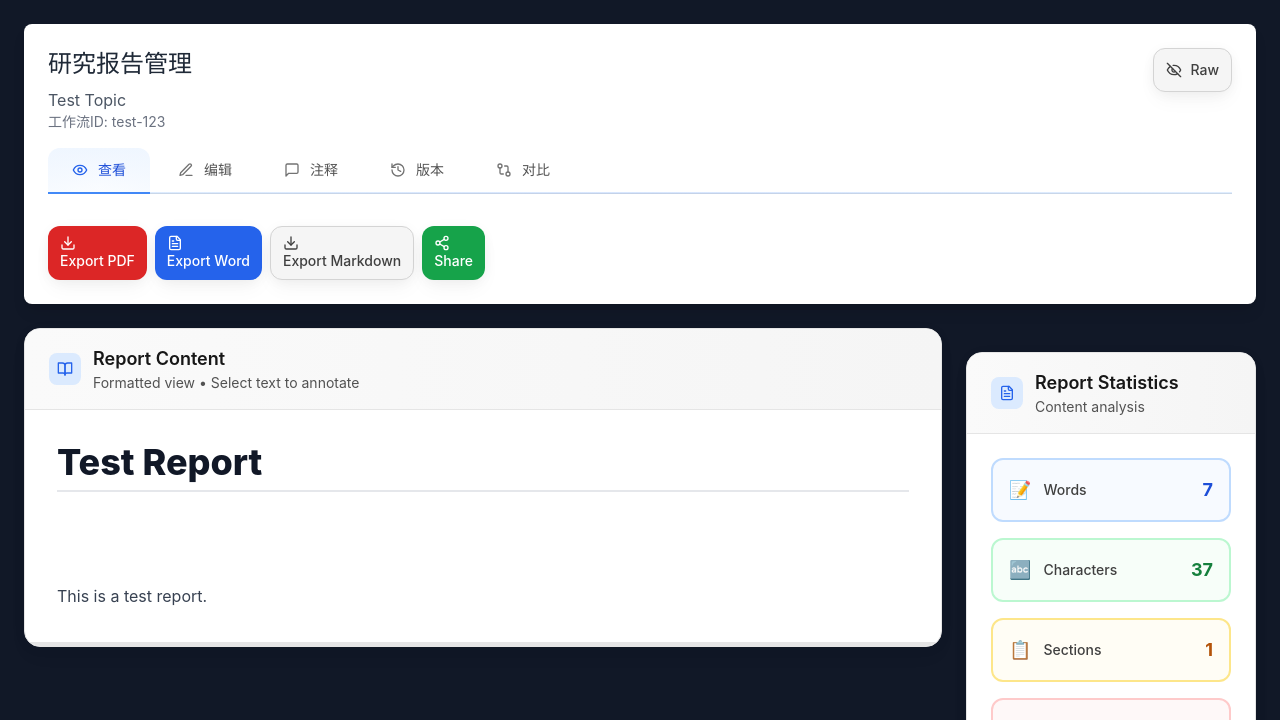
Error Handling Integration › should show loading states during export operations
Note: Click export markdown button
Click the text "Export Markdown" at (342, 260), box [283,252,401,269]
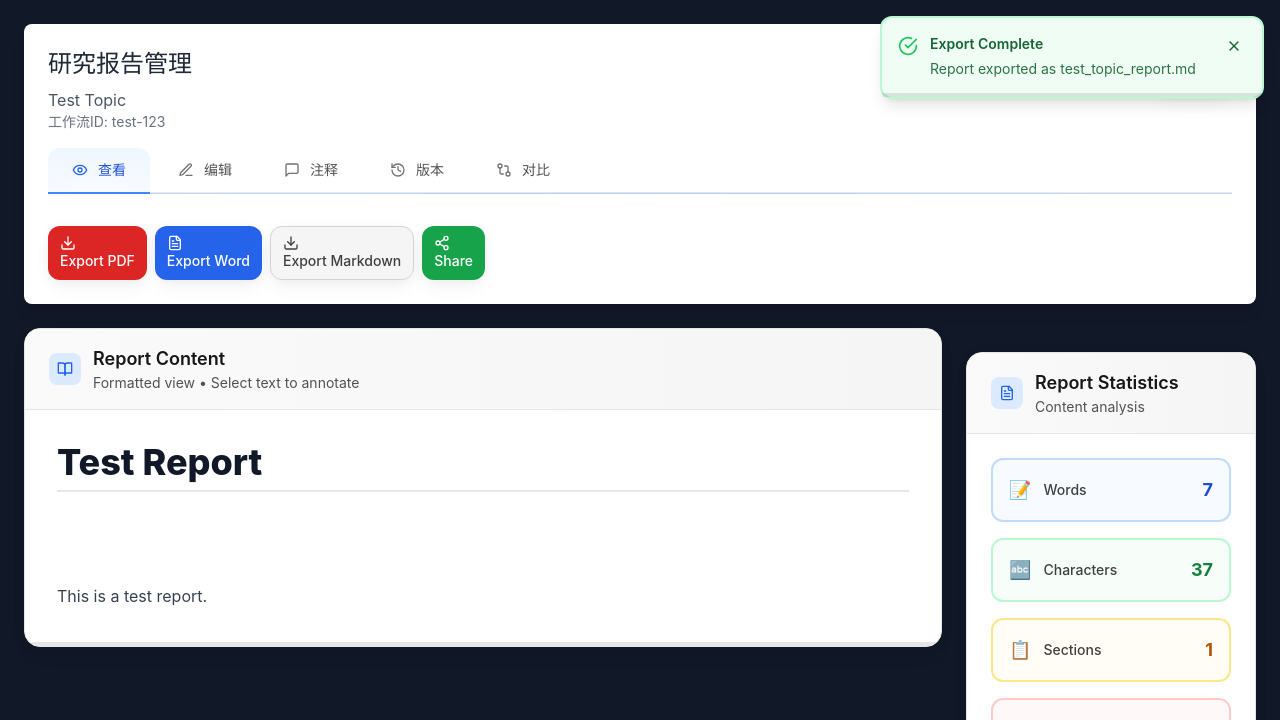
Now the heading "Export Complete" is shown, box [930,35,1043,52]
